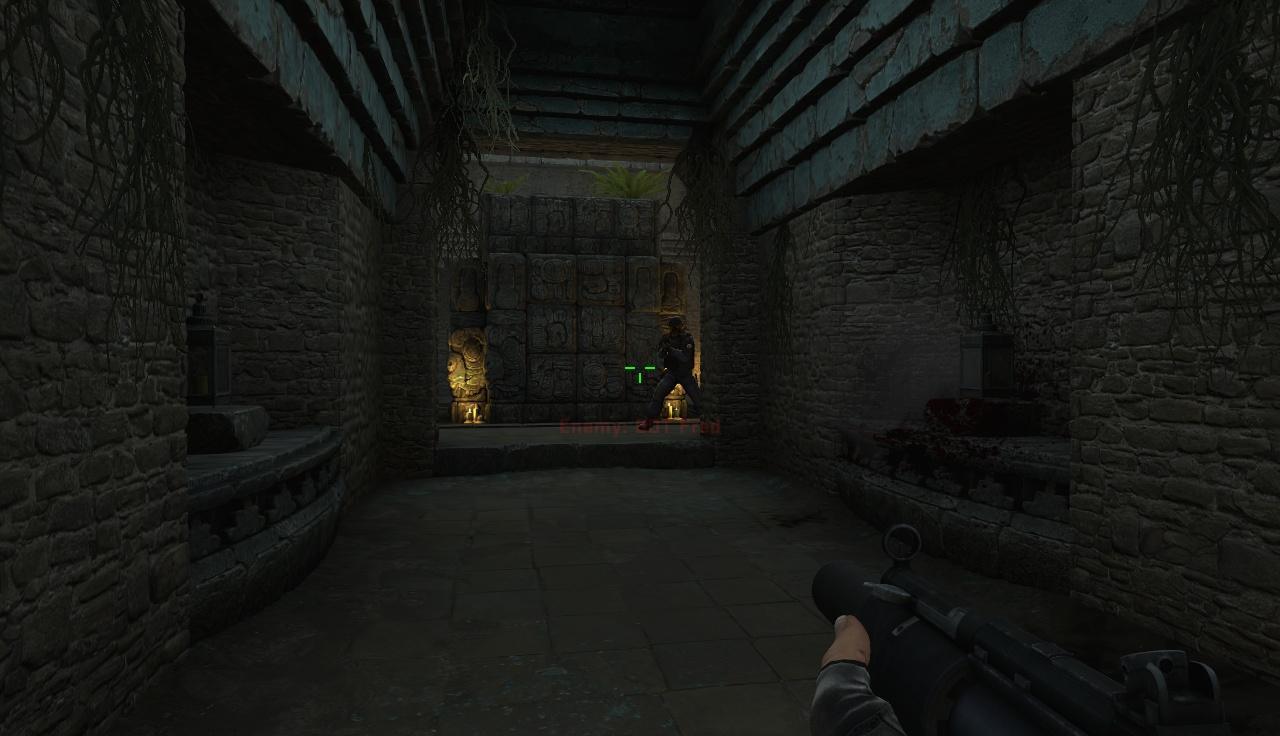ct: (659, 316, 693, 425)
cthead: (667, 317, 684, 336)
rifle: (819, 529, 1279, 736)
